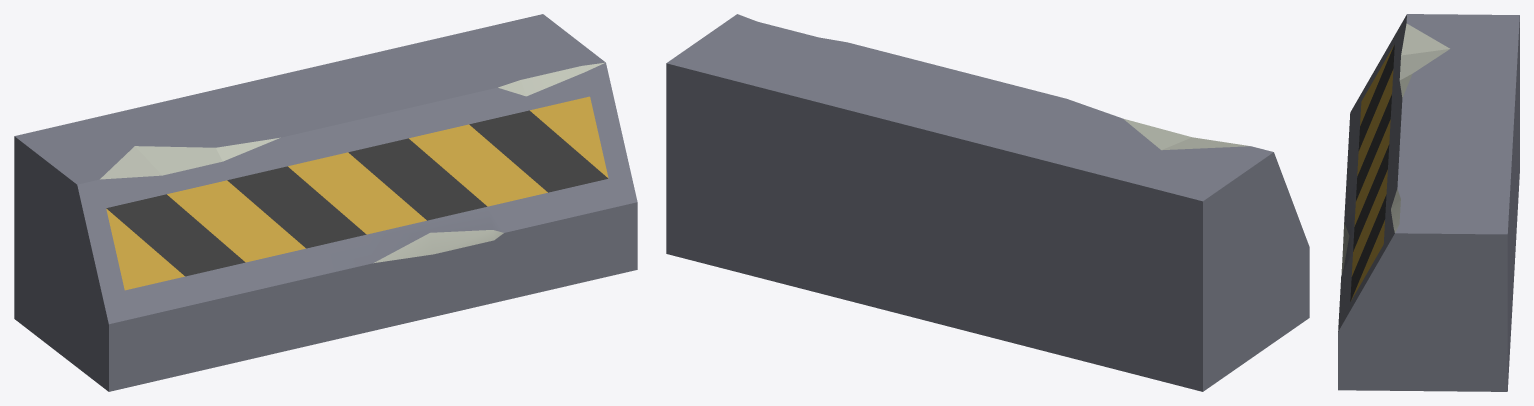
The model's file is barrier_single.glb.
3 views of the same model, side by side, from view 1: azimuth 30°, elevation 25°; view 2: azimuth 150°, elevation 25°; view 3: azimuth 270°, elevation 25° (orthographic). The views are drawn at different scales.
Visible parts, largest first — view 1: Barrier_Single; view 2: Barrier_Single; view 3: Barrier_Single.
Boxes of the visible parts, x1,y1,x2,y2 form: Barrier_Single: [14, 14, 637, 391]; Barrier_Single: [666, 14, 1309, 391]; Barrier_Single: [1338, 14, 1519, 391].
Size of the model in its own units: 1.89 by 0.6281 by 0.6569.
